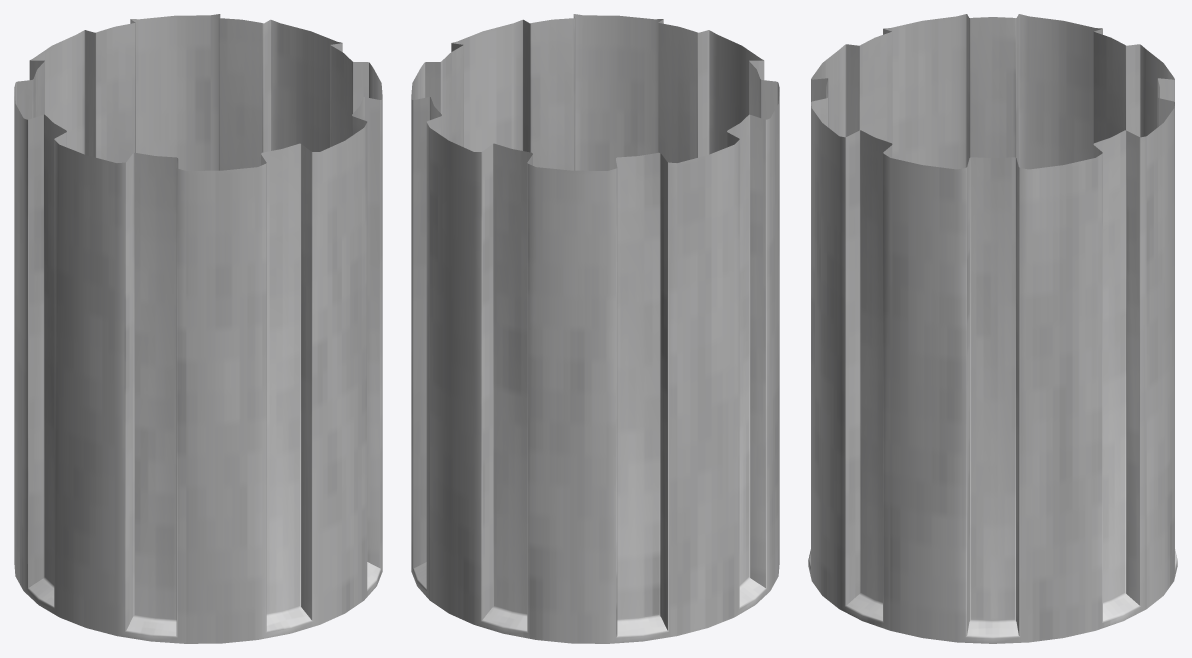
Rendered from PillarMiddleBotton.fbx.
The picture shows the model from 3 angles, left to right: view 1: azimuth 30°, elevation 25°; view 2: azimuth 150°, elevation 25°; view 3: azimuth 270°, elevation 25°; orthographic projection.
Visible parts, largest first — view 1: PillarMiddleButton; view 2: PillarMiddleButton; view 3: PillarMiddleButton.
Part boxes in pixels (left/top/right/bottom): PillarMiddleButton: left=14, top=14, right=382, bottom=643; PillarMiddleButton: left=411, top=14, right=779, bottom=643; PillarMiddleButton: left=808, top=14, right=1177, bottom=643.
Size of what is drawn, in the model's own units: 40 by 57.14 by 40.
